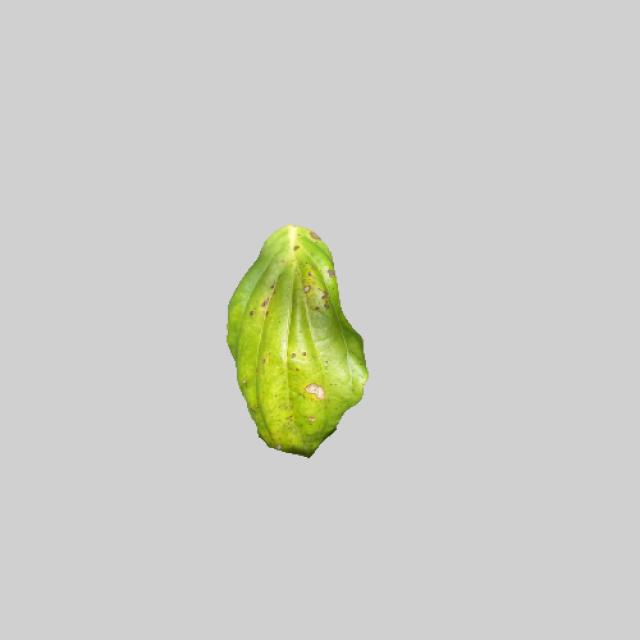yellow-mottle-virus: (215, 216, 370, 457)
